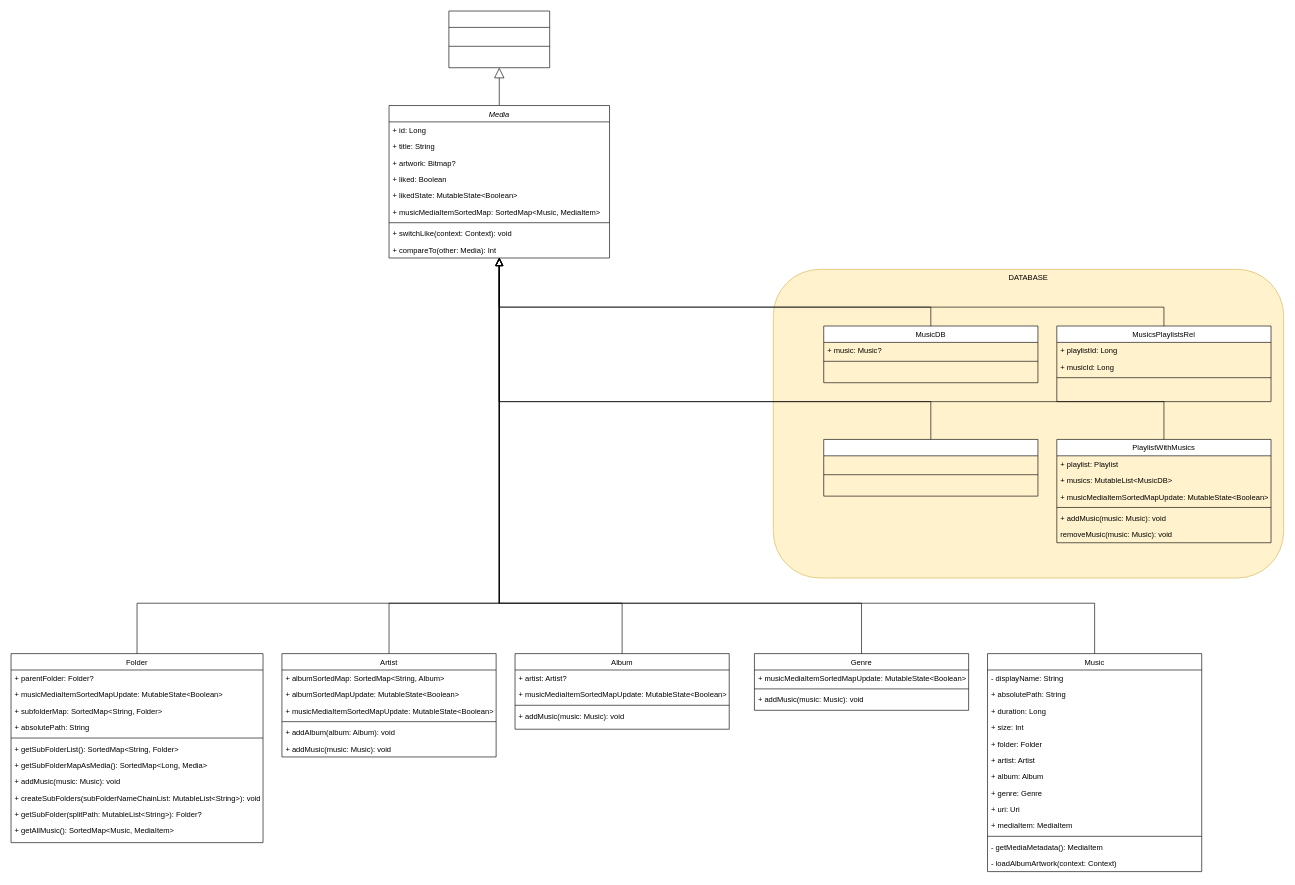
The diagram is 1295 pixels wide and 885 high, and some of its shapes have lost their labels. Here are the shapes that lost their labels. From the top down, the centre of each, then its label:
At (499,39): "Comparable".
At (930,467): "Playlist".
